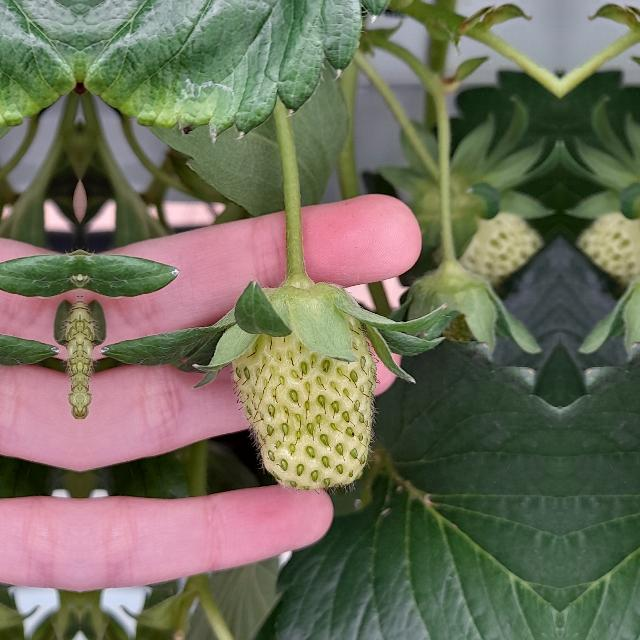Health_25: (232, 308, 376, 490)
